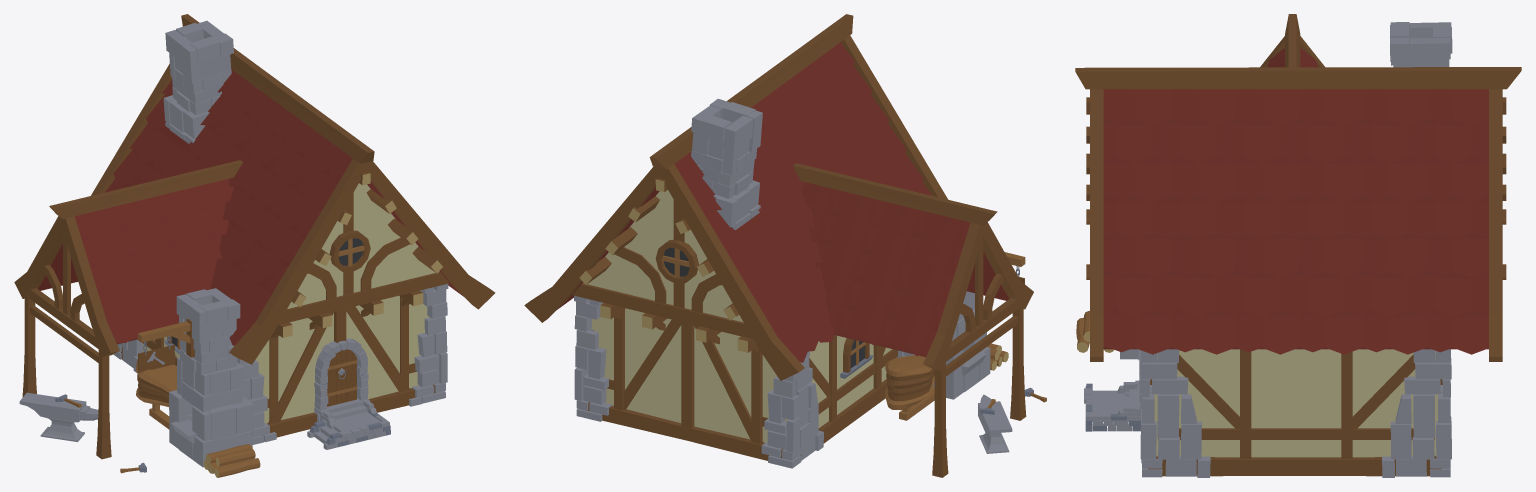
File: Blacksmith.glb
3 renders of one model, left to right at view 1: azimuth 30°, elevation 25°; view 2: azimuth 150°, elevation 25°; view 3: azimuth 270°, elevation 25°, orthographic. The views are drawn at different scales.
Parts seen in each view (by area): view 1: Blacksmith; view 2: Blacksmith; view 3: Blacksmith.
Boxes of the visible parts, x1,y1,x2,y2 form: Blacksmith: (14,14,495,477); Blacksmith: (524,14,1046,477); Blacksmith: (1075,14,1521,477).
Size of the model in its own units: 3.89 by 3 by 3.28.
1 material, 1 textured.
